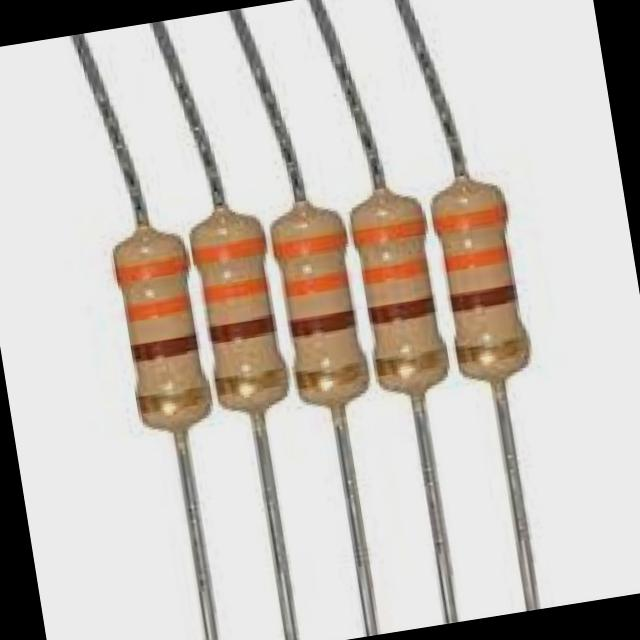Resistor: (191, 205, 289, 436), (272, 201, 369, 424), (352, 187, 448, 403), (433, 179, 530, 390), (114, 224, 211, 434)
brown: (126, 332, 200, 365), (447, 281, 518, 313), (206, 314, 279, 343), (287, 310, 358, 339), (364, 298, 436, 324)
gold: (370, 337, 446, 376), (292, 357, 368, 390), (132, 384, 209, 413), (210, 367, 288, 395), (451, 336, 530, 363)
orange: (352, 217, 426, 249), (430, 203, 512, 231), (272, 230, 347, 260), (433, 246, 513, 273), (187, 235, 268, 261), (112, 256, 189, 283), (125, 291, 191, 321), (198, 276, 267, 302), (359, 260, 430, 284), (281, 273, 349, 296)
